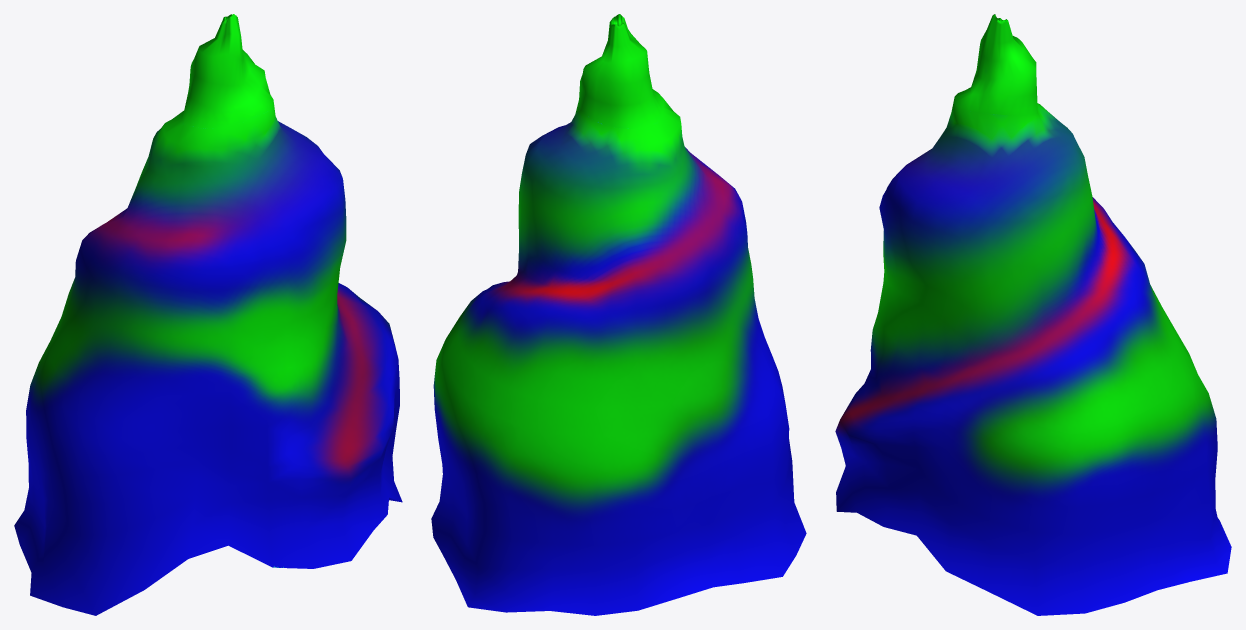
Rendered from VolcanoShape.dae.
3 renders of one model, left to right at view 1: azimuth 30°, elevation 25°; view 2: azimuth 150°, elevation 25°; view 3: azimuth 270°, elevation 25°, orthographic. The views are drawn at different scales.
Visible parts, largest first — view 1: Volcano; view 2: Volcano; view 3: Volcano.
Part boxes in pixels (x1,y1,x2,y2): Volcano: (14,14,402,615); Volcano: (431,14,806,615); Volcano: (835,14,1231,615).
Bounding box in the file's own units: 103 × 155 × 103.
